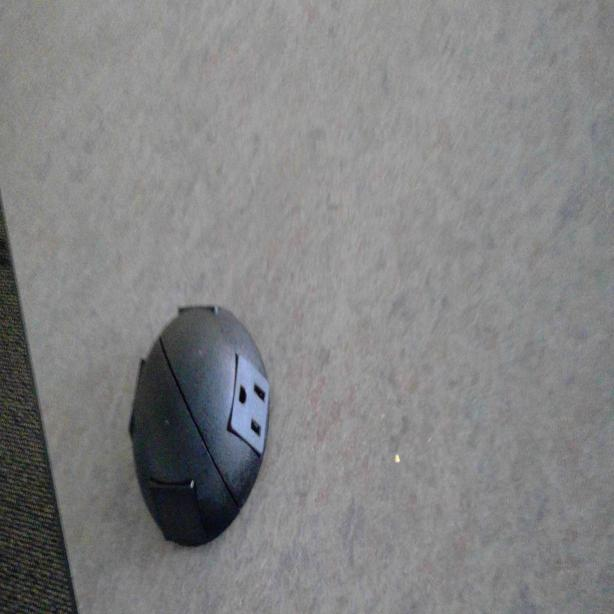typeb: (233, 363, 269, 440)
